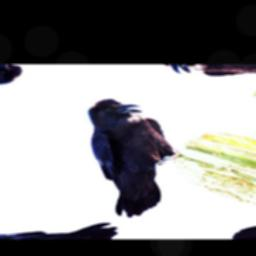Crow: (5, 94, 237, 222)
